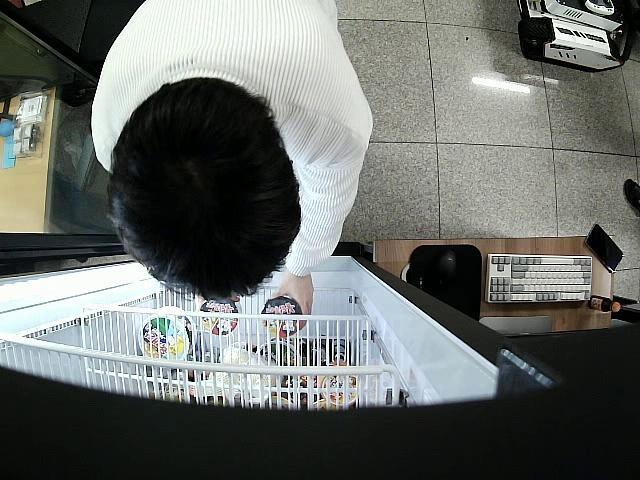08_buldak_S: (262, 295, 304, 336)
